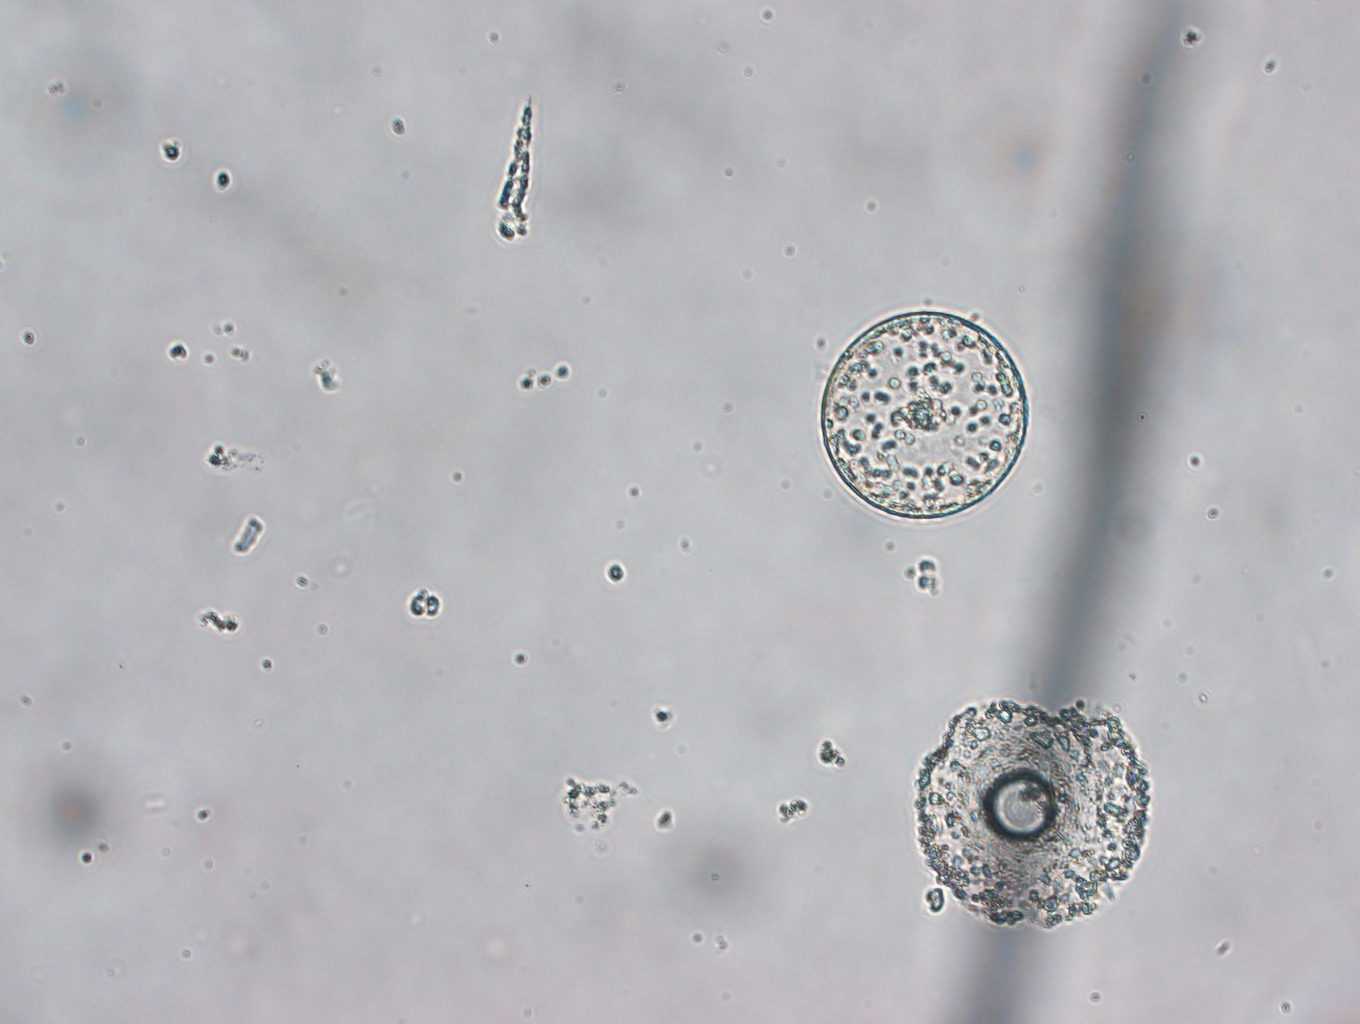coscinodiscus: (819, 308, 1029, 522)
